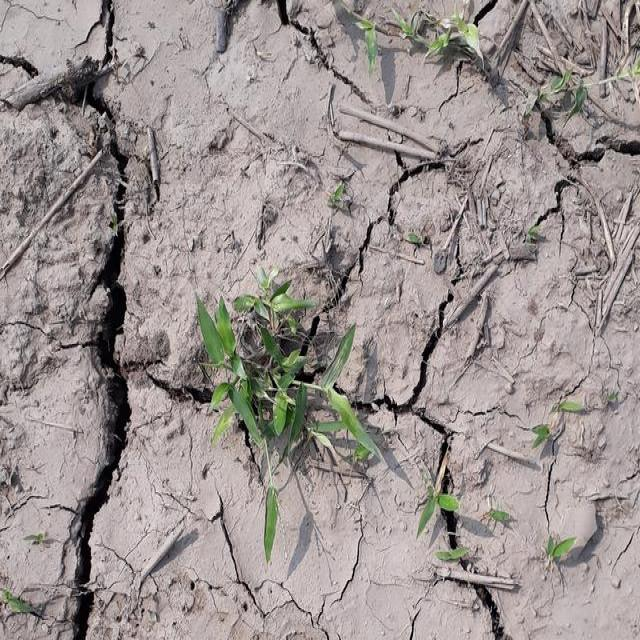weed: (184, 282, 373, 477)
